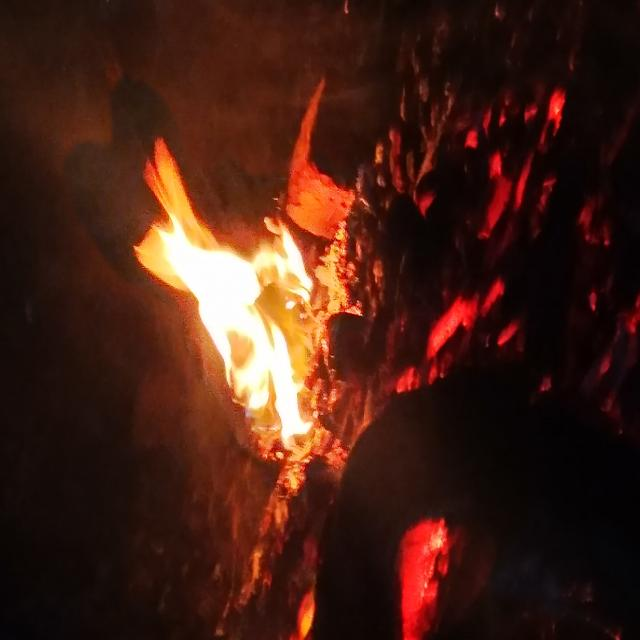Fire: (139, 179, 390, 475)
